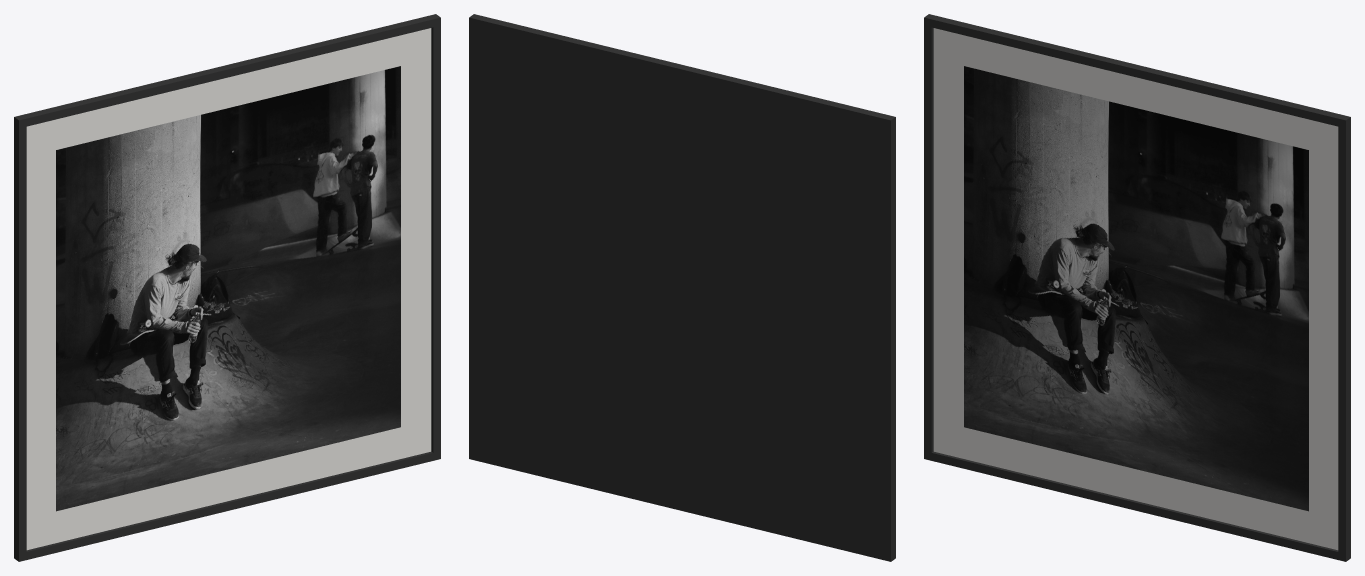
File: pausen-90.gltf
3 views of the same model, side by side, from view 1: azimuth 30°, elevation 25°; view 2: azimuth 150°, elevation 25°; view 3: azimuth 330°, elevation 25° (orthographic).
Parts seen in each view (by area): view 1: tavla; view 2: tavla; view 3: tavla.
Boxes of the visible parts, x1,y1,x2,y2 form: tavla: [14, 14, 440, 561]; tavla: [469, 14, 895, 561]; tavla: [924, 14, 1350, 561].
Bounding box in the file's own units: 1.1 × 1.1 × 0.022.
3 materials, 1 textured.
